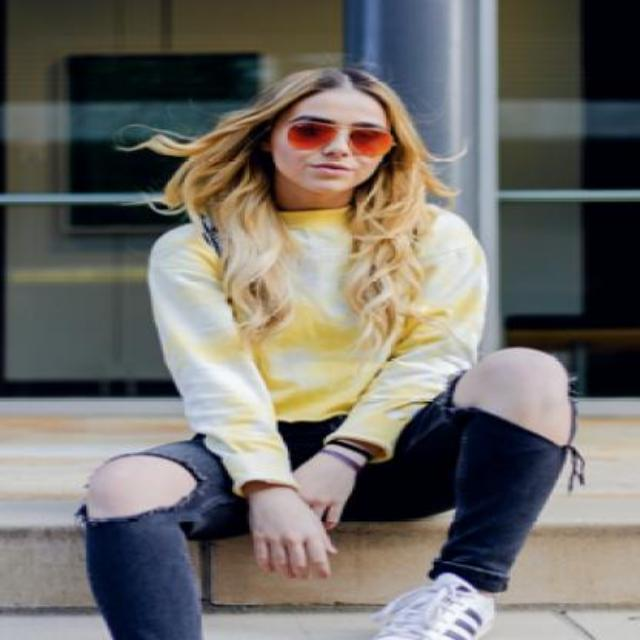glasses: (276, 122, 398, 154)
